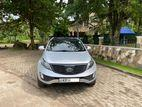car: (38, 36, 97, 88)
